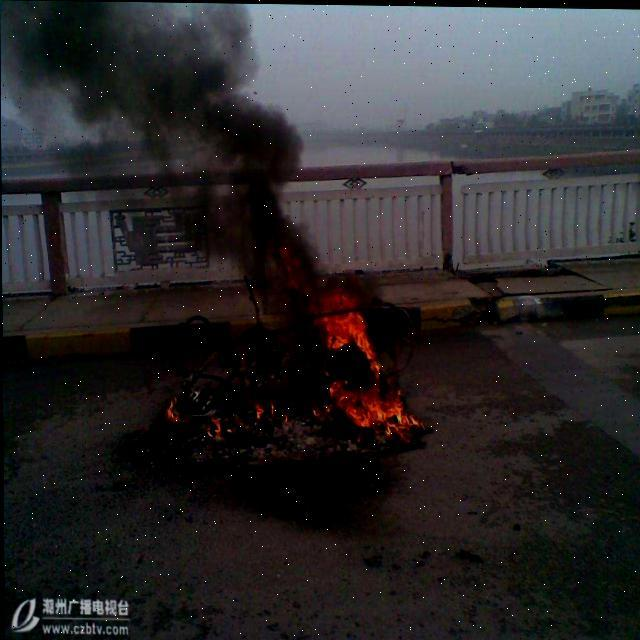Fire: (148, 262, 415, 459)
